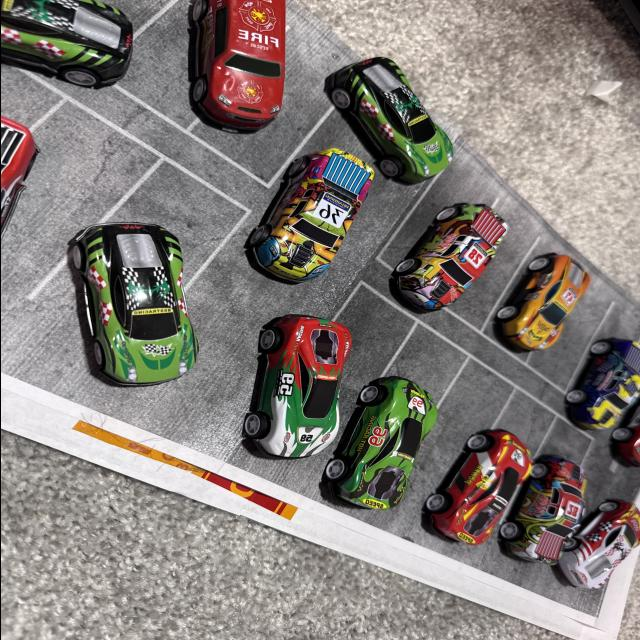Car: (154, 314, 358, 488), (312, 386, 460, 538), (387, 438, 553, 556), (66, 220, 185, 383), (314, 60, 450, 186), (179, 0, 303, 134), (260, 158, 368, 286), (388, 210, 501, 324), (0, 0, 148, 86), (478, 465, 596, 562), (489, 250, 590, 361), (0, 112, 68, 246), (578, 482, 640, 622)
